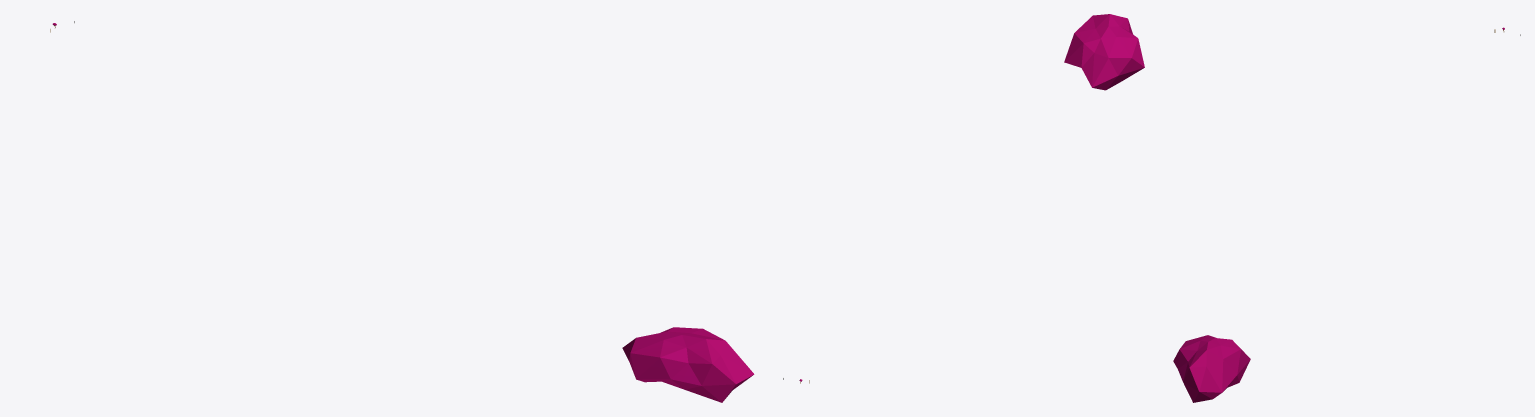
File: tori.glb
3 views of the same model, side by side, from view 1: azimuth 30°, elevation 25°; view 2: azimuth 150°, elevation 25°; view 3: azimuth 330°, elevation 25° (orthographic). The views are drawn at different scales.
Visible parts, largest first — view 1: SakuraTree_2_MainMaterial_0; view 2: SakuraTree_2_MainMaterial_0; view 3: SakuraTree_2_MainMaterial_0.
Part boxes in pixels (x1,y1,x2,y2): SakuraTree_2_MainMaterial_0: (50,23,754,402); SakuraTree_2_MainMaterial_0: (799,14,1144,383); SakuraTree_2_MainMaterial_0: (1173,27,1504,402).
Size of the model in its own units: 16971 by 4492 by 82313.
2 materials, 2 textured.
